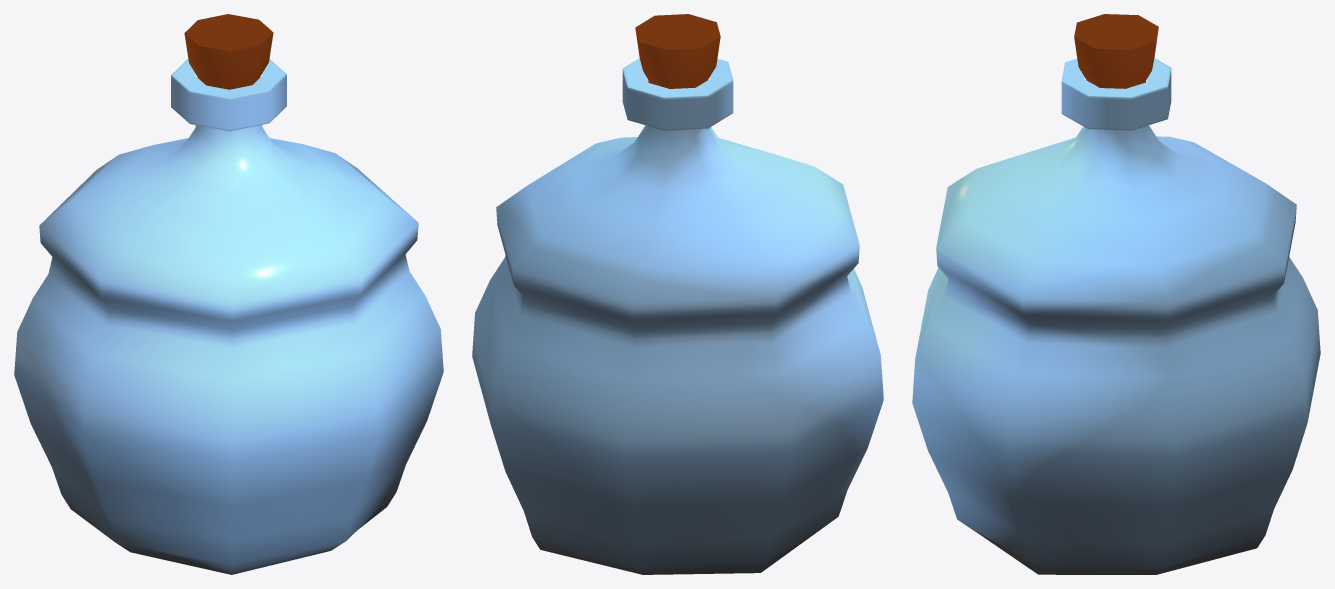
The model's file is Goldnektar_bottle.glb.
3 views of the same model, side by side, from view 1: azimuth 30°, elevation 25°; view 2: azimuth 150°, elevation 25°; view 3: azimuth 270°, elevation 25° (orthographic).
Visible parts, largest first — view 1: GoldLP; view 2: GoldLP; view 3: GoldLP.
Boxes of the visible parts, x1,y1,x2,y2 form: GoldLP: (14,14,443,574); GoldLP: (472,14,883,574); GoldLP: (912,14,1320,574).
Size of the model in its own units: 0.1723 by 0.2265 by 0.1723.
Materials: 2 (2 with a texture image).
